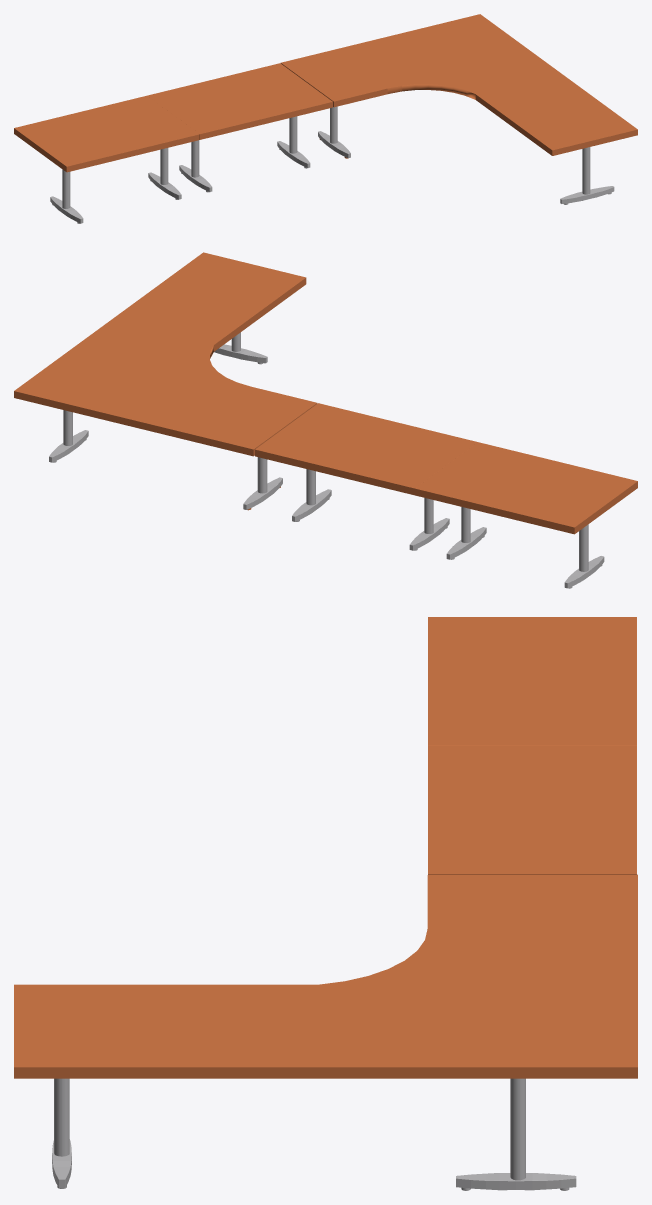
The model's file is 3_Tisch_Reihe.fbx.
The picture shows the model from 3 angles, top to bottom: view 1: azimuth 30°, elevation 25°; view 2: azimuth 150°, elevation 25°; view 3: azimuth 270°, elevation 25°; orthographic projection. The views are drawn at different scales.
Parts seen in each view (by area): view 1: TischEcke, TischA, TischB; view 2: TischEcke, TischA, TischB; view 3: TischEcke, TischB, TischA.
Boxes of the visible parts, x1,y1,x2,y2 form: TischEcke: (280, 14, 637, 204); TischA: (14, 95, 199, 223); TischB: (147, 63, 332, 192); TischEcke: (14, 252, 317, 510); TischA: (414, 442, 637, 588); TischB: (255, 403, 477, 550); TischEcke: (14, 874, 637, 1190); TischB: (428, 745, 636, 874); TischA: (428, 617, 636, 745).
Bounding box in the file's own units: 449 × 63.11 × 263.
